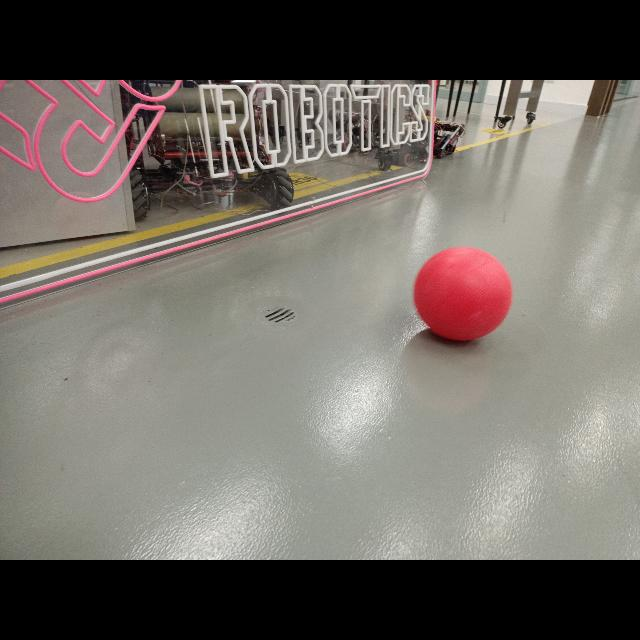R: (416, 242, 514, 344)
